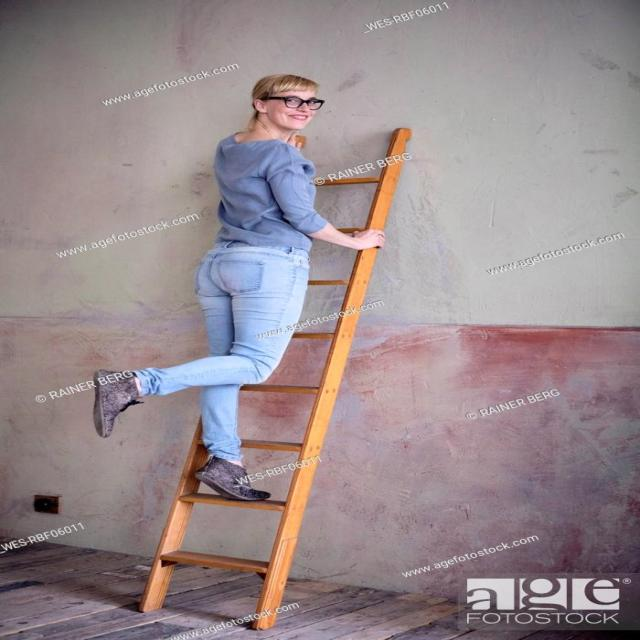stand: (138, 45, 349, 512)
